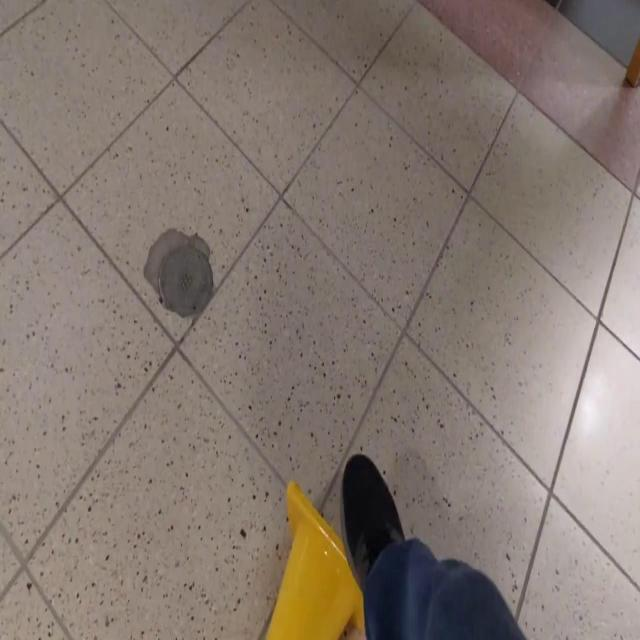frc_cone: (260, 481, 346, 640)
